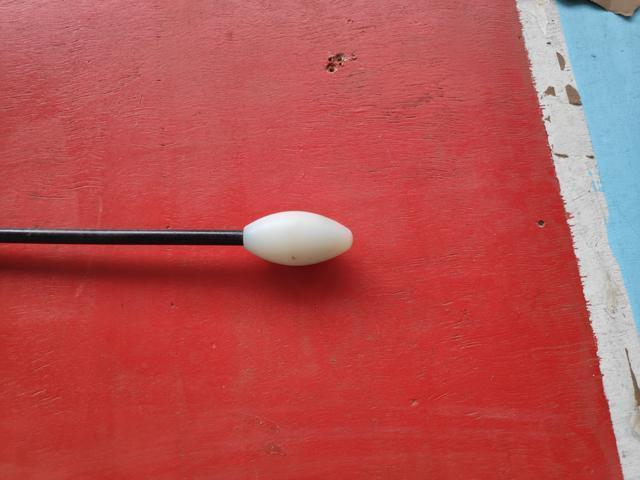Head: (241, 207, 354, 269)
